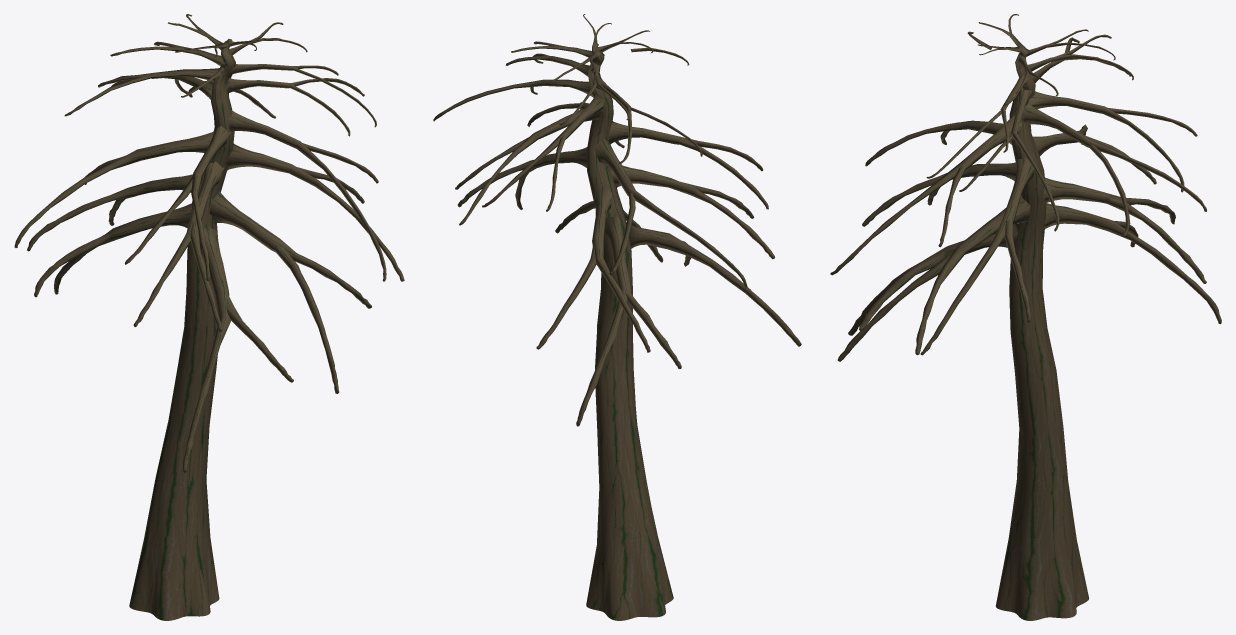
File: DeadTree_4__go_village.glb
The picture shows the model from 3 angles, left to right: view 1: azimuth 30°, elevation 25°; view 2: azimuth 150°, elevation 25°; view 3: azimuth 270°, elevation 25°; orthographic projection. The views are drawn at different scales.
Visible parts, largest first — view 1: DeadTree_4; view 2: DeadTree_4; view 3: DeadTree_4.
Part boxes in pixels (bbox=[...]): DeadTree_4: bbox=[14, 14, 404, 620]; DeadTree_4: bbox=[433, 14, 801, 620]; DeadTree_4: bbox=[830, 14, 1221, 620].
Bounding box in the file's own units: 7.96 × 12.77 × 7.73.
Materials: 1 (1 with a texture image).
